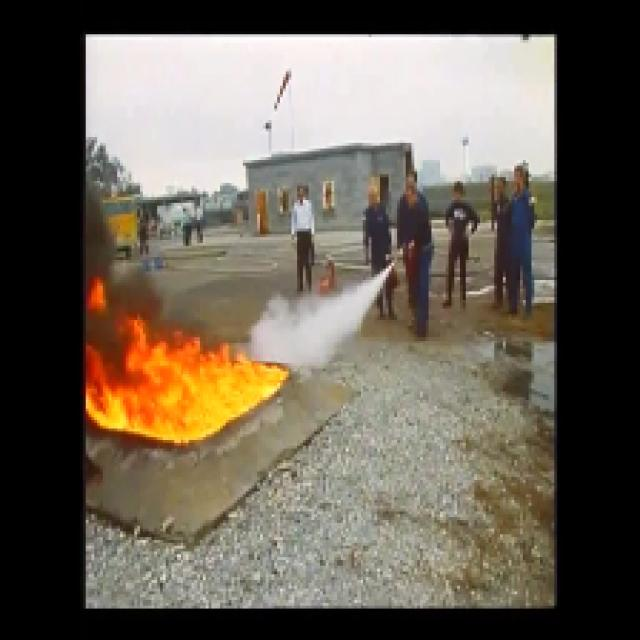fire: (97, 327, 286, 434)
